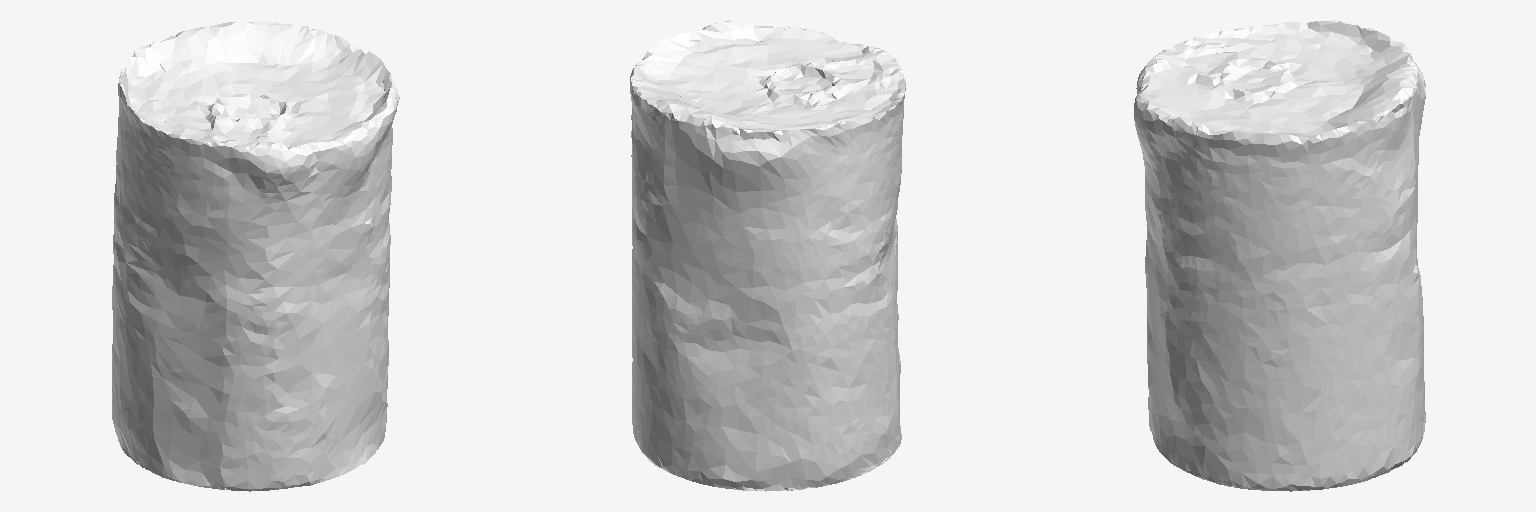
robot.urdf — beans:
<?xml version="1.0" ?>
<robot name="beans">
 <link name="baseLink">
   <contact>
     <lateral_friction value="2.0"/>
   </contact>
   <inertial>
     <origin rpy="0 0 0" xyz="0.002696 -0.000573 -0.010697"/>
      <mass value="1.0"/>
      <inertia ixx="0.000001" ixy="0.000000" ixz="-0.000000" iyy="0.000001" iyz="0.000000" izz="0.000000"/>
   </inertial>
   <visual>
     <origin rpy="0 0 0" xyz="0 0 0"/>
     <geometry>
       <mesh filename="beans.obj" scale="1.0 1.0 1.0"/>
     </geometry>
      <material name="white">
       <color rgba="1 1 1 1"/>
     </material>
   </visual>
   <collision>
     <origin rpy="0 0 0" xyz="0 0 0"/>
     <geometry>
       <mesh filename="beans_vhacd2.obj" scale="1.0 1.0 1.0"/>
     </geometry>
   </collision>
 </link>
</robot>

--- Facts derived from the render (not from the file) ---
3 views of the same robot in one strip: view 1: azimuth 30°, elevation 25°; view 2: azimuth 150°, elevation 25°; view 3: azimuth 270°, elevation 25° (orthographic).
Model beans with 1 links and 0 joints (none), rooted at baseLink, posed every joint at zero.
Visible links, largest first — view 1: baseLink; view 2: baseLink; view 3: baseLink.
Boxes of the visible links, box(x1,y1,x2,y2) form: baseLink: box(112, 21, 399, 491); baseLink: box(630, 20, 905, 491); baseLink: box(1134, 20, 1425, 491).
Size in the robot's own frame: 0.0733 by 0.076 by 0.1056 metres.
Meshes: 1 distinct files referenced, 1 mesh visuals loaded (1 OBJ).